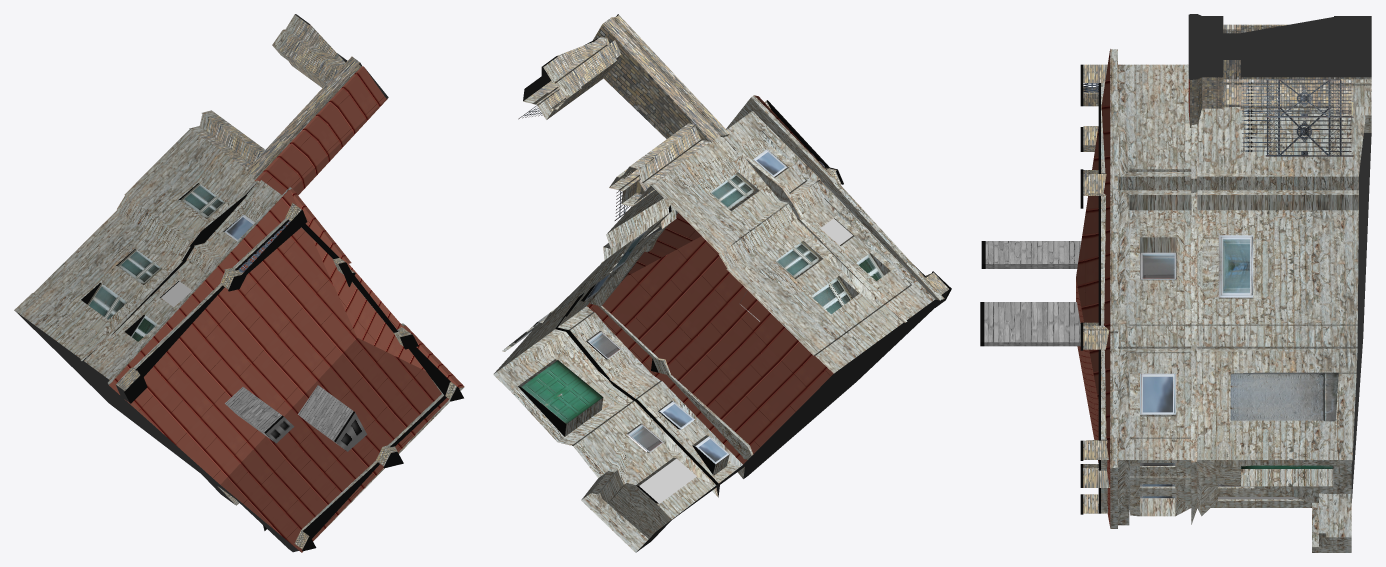
Rendered from Kohtu_6_2-origo.obj.
The picture shows the model from 3 angles, left to right: view 1: azimuth 30°, elevation 25°; view 2: azimuth 150°, elevation 25°; view 3: azimuth 270°, elevation 25°; orthographic projection. The views are drawn at different scales.
Parts seen in each view (by area): view 1: Kohtu_6_2; view 2: Kohtu_6_2; view 3: Kohtu_6_2.
Part boxes in pixels (bbox=[...]): Kohtu_6_2: bbox=[14, 14, 464, 552]; Kohtu_6_2: bbox=[493, 14, 951, 552]; Kohtu_6_2: bbox=[980, 14, 1371, 552].
Size of the model in its own units: 14.75 by 18 by 10.85.
